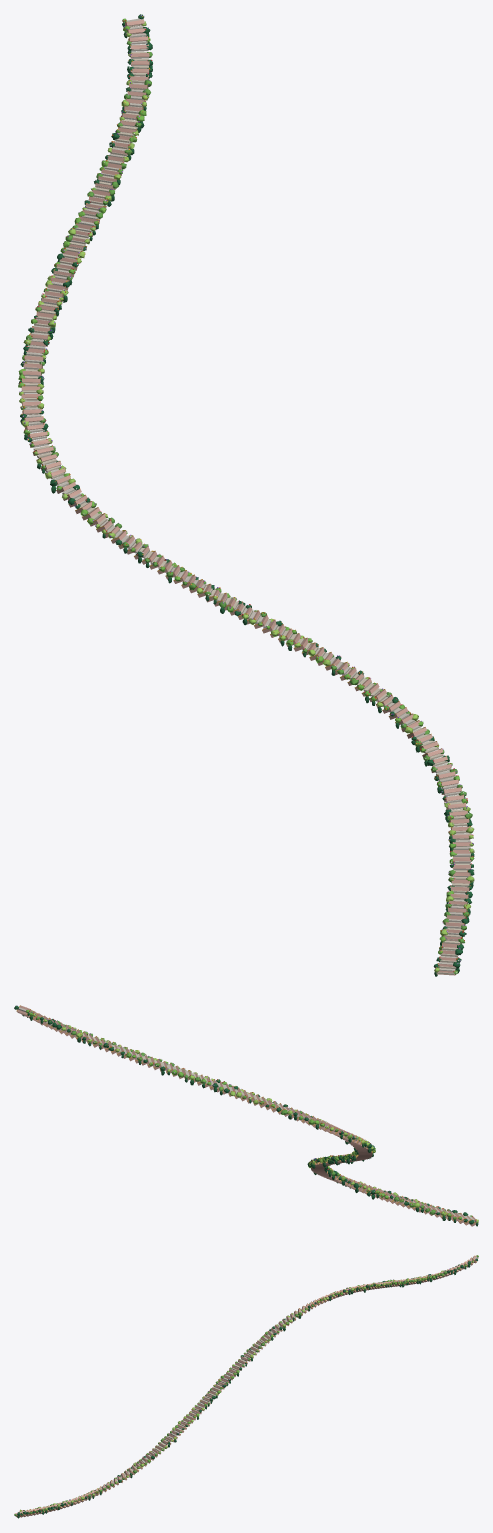
The model's file is ZB_yapi_kat_merdiveni.glb.
3 renders of one model, top to bottom at view 1: azimuth 30°, elevation 25°; view 2: azimuth 150°, elevation 25°; view 3: azimuth 270°, elevation 25°, orthographic. The views are drawn at different scales.
Parts seen in each view (by area): view 1: ZB_yapi_kat_merdiveni; view 2: ZB_yapi_kat_merdiveni; view 3: ZB_yapi_kat_merdiveni.
Part boxes in pixels (x1=…): ZB_yapi_kat_merdiveni: x1=18, y1=14, x2=474, y2=976; ZB_yapi_kat_merdiveni: x1=14, y1=1005, x2=478, y2=1226; ZB_yapi_kat_merdiveni: x1=14, y1=1255, x2=478, y2=1518.
Size of the model in its own units: 108 by 212 by 303.
